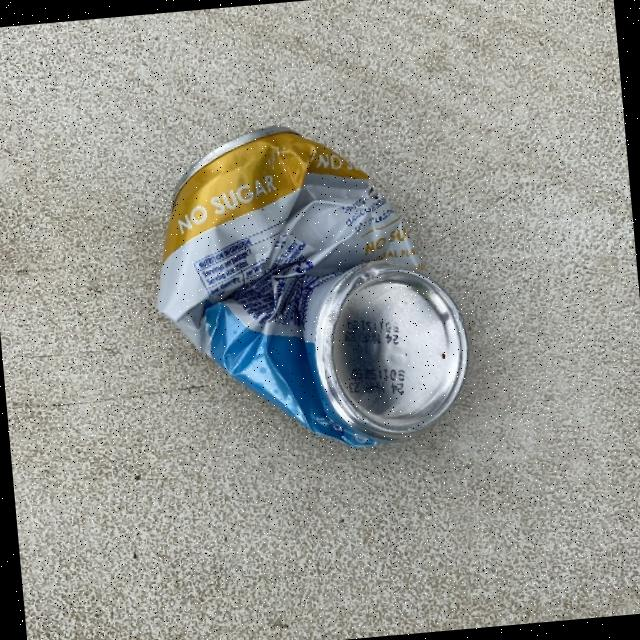metal: (294, 250, 474, 447)
